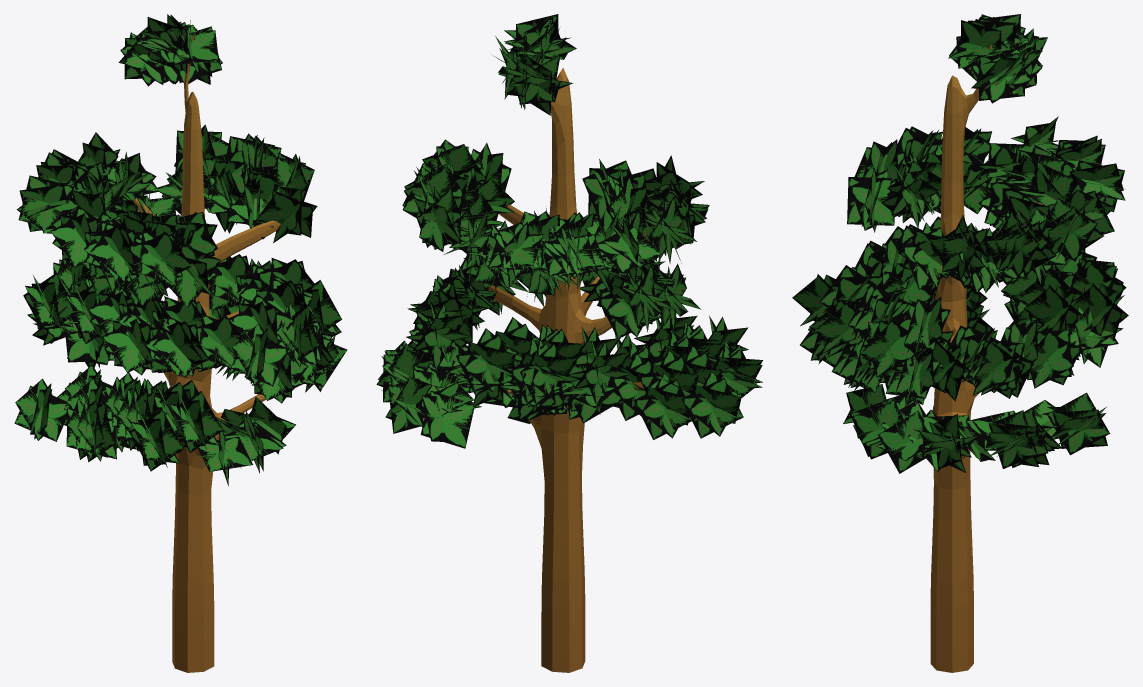
File: Silverneedle_Pine_T1.glb
3 renders of one model, left to right at view 1: azimuth 30°, elevation 25°; view 2: azimuth 150°, elevation 25°; view 3: azimuth 270°, elevation 25°, orthographic. The views are drawn at different scales.
Visible parts, largest first — view 1: Leaves, Full_Tree; view 2: Leaves, Full_Tree; view 3: Leaves, Full_Tree.
Boxes of the visible parts, <box> form: Leaves: <box>14,14,347,486</box>; Full_Tree: <box>133,34,280,672</box>; Leaves: <box>376,14,762,448</box>; Full_Tree: <box>488,68,646,672</box>; Leaves: <box>792,14,1128,473</box>; Full_Tree: <box>823,44,1043,672</box>.
Bounding box in the file's own units: 16.13 × 29.95 × 14.19.
Materials: 2 (2 with a texture image).
